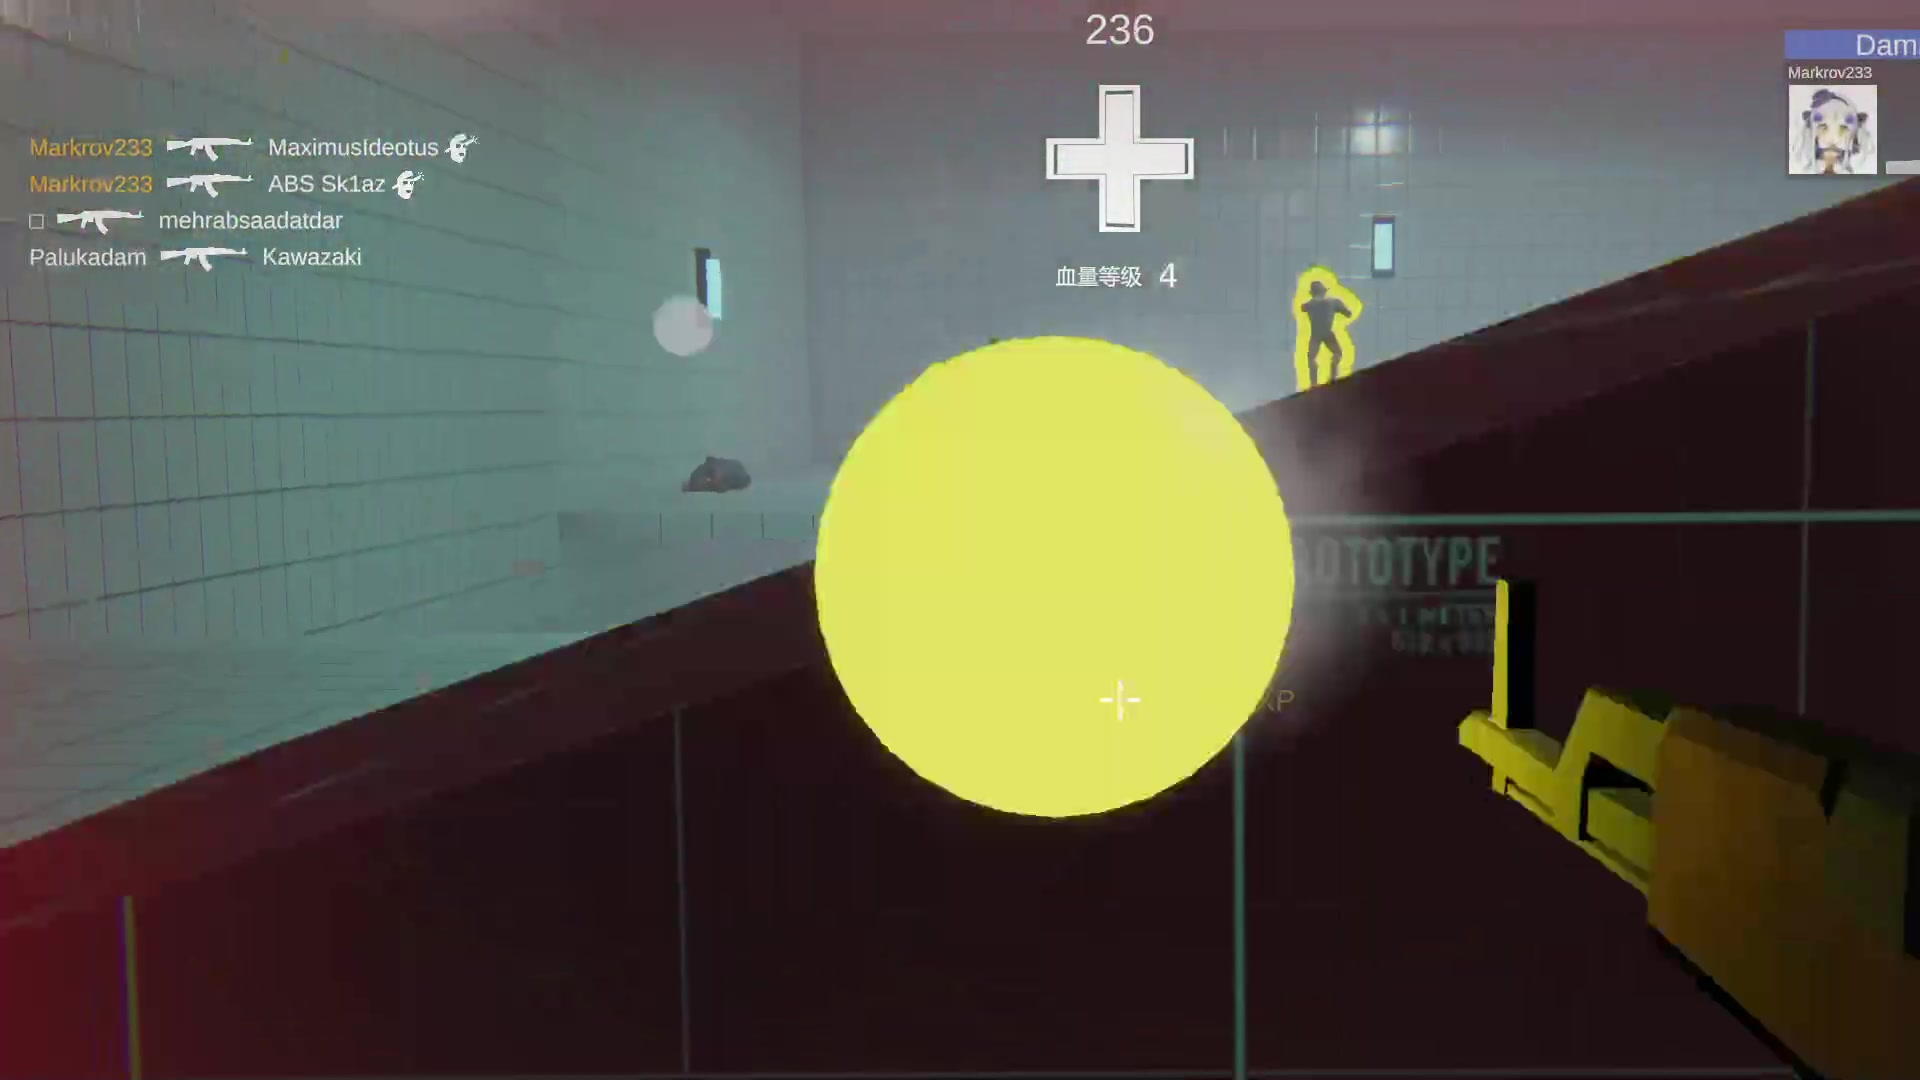human: (1297, 259, 1361, 385)
